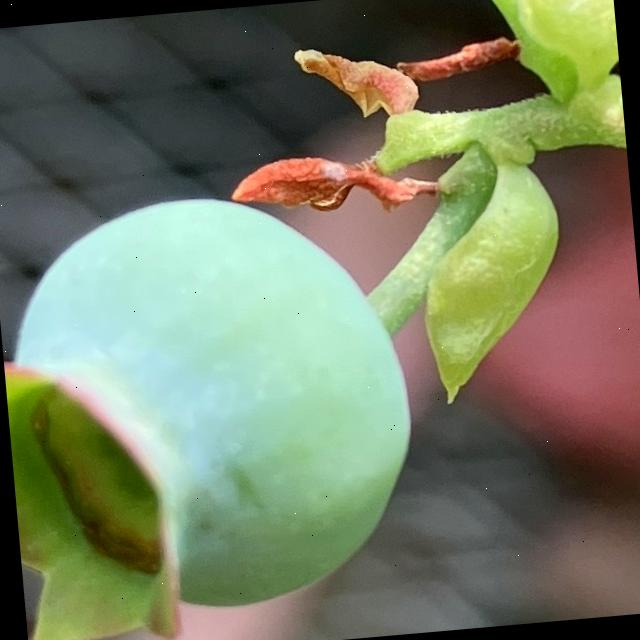Blueberries: (0, 173, 433, 640)
